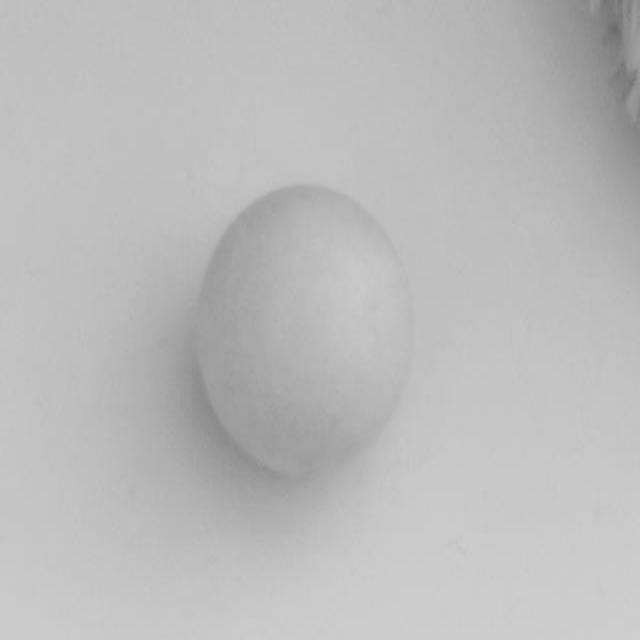ping-pong-ball: (198, 196, 412, 477)
